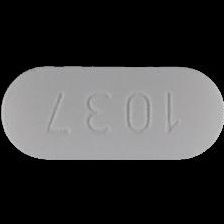61786-526: (0, 0, 224, 224)
